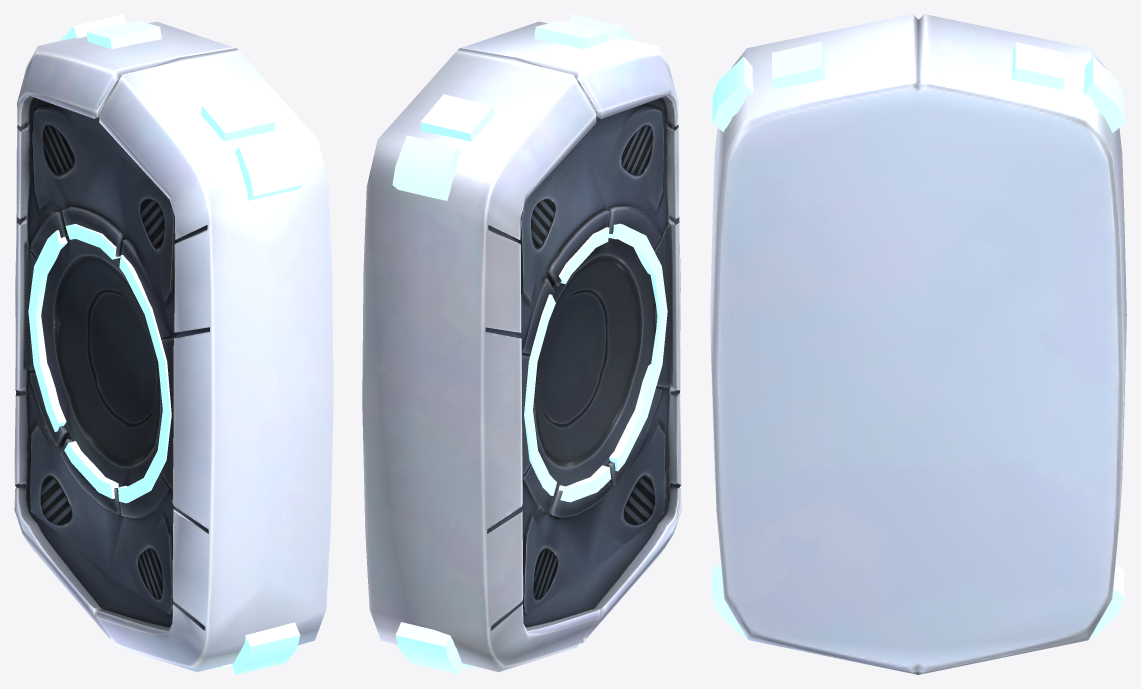
The model's file is obj_speaker.gltf.
3 renders of one model, left to right at view 1: azimuth 30°, elevation 25°; view 2: azimuth 150°, elevation 25°; view 3: azimuth 270°, elevation 25°, orthographic. The views are drawn at different scales.
Visible parts, largest first — view 1: obj_speaker; view 2: obj_speaker; view 3: obj_speaker.
Part boxes in pixels (<box>): obj_speaker: <box>14,14,333,674</box>; obj_speaker: <box>362,14,681,674</box>; obj_speaker: <box>710,14,1126,674</box>.
Size of what is drawn, in the model's own units: 0.1684 by 0.6266 by 0.3911.
Materials: 2 (1 with a texture image).
